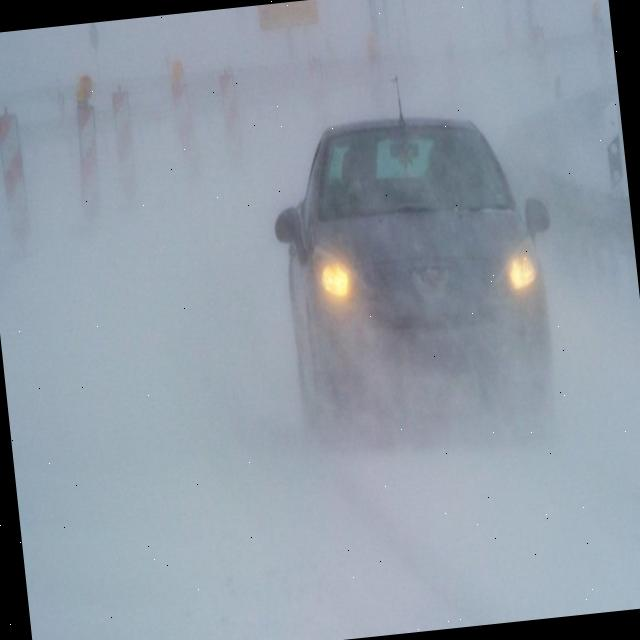car: (266, 105, 556, 395)
